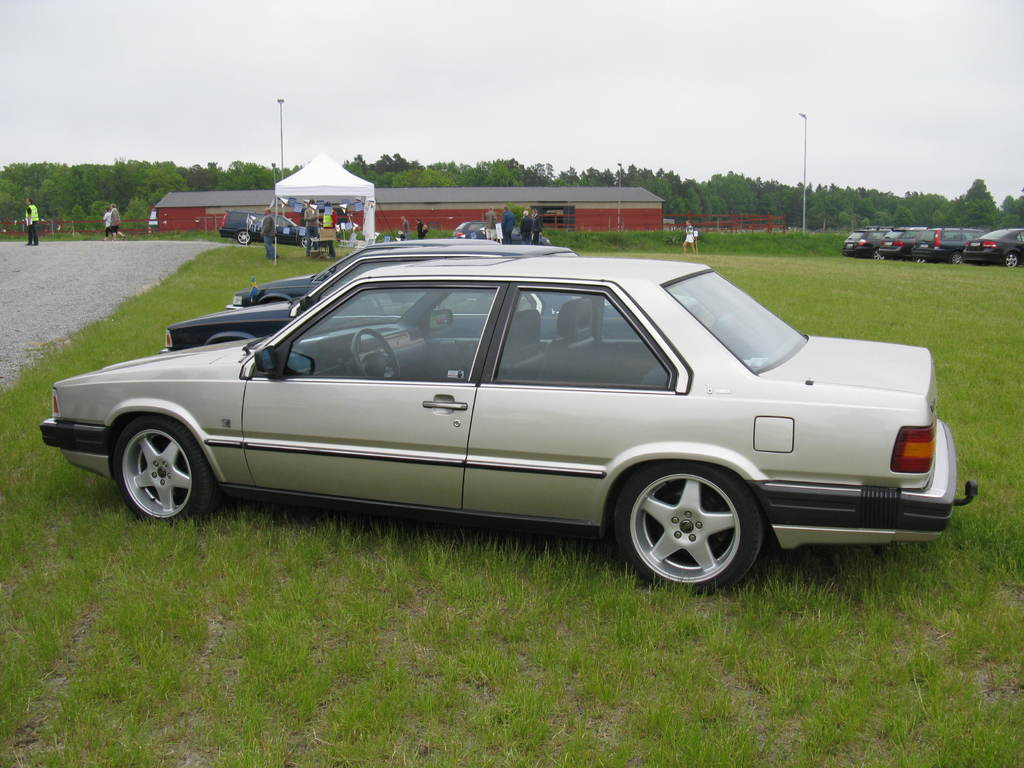mobil: (45, 257, 975, 606)
